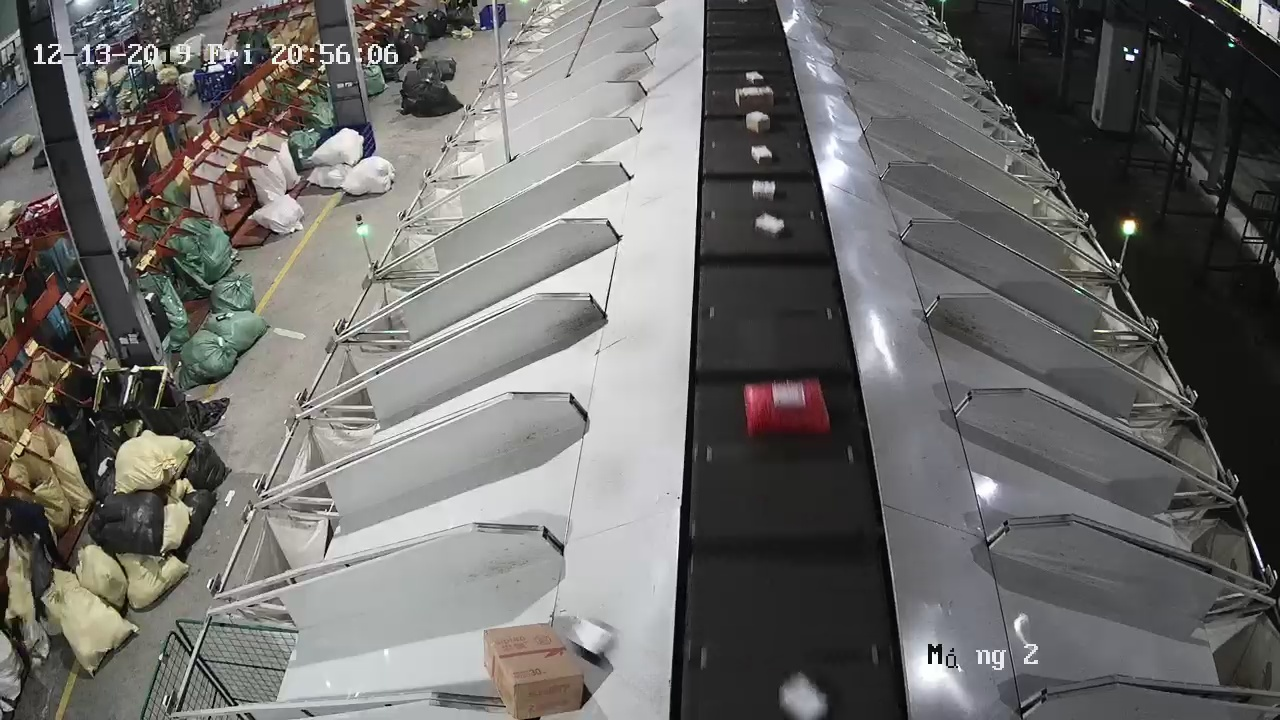parcel: (565, 616, 614, 656)
